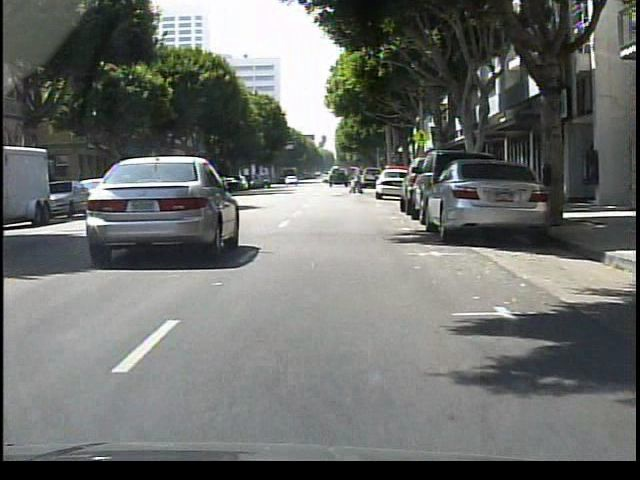person: (350, 166, 364, 194)
